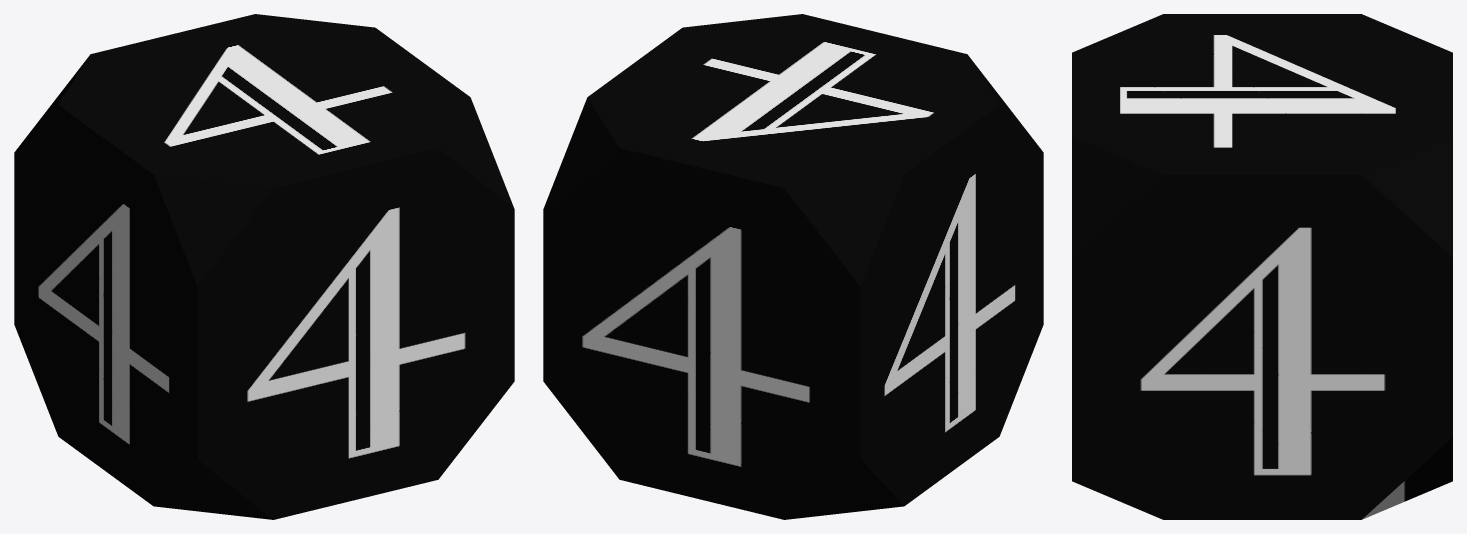
File: BlockBase-4.fbx
The picture shows the model from 3 angles, left to right: view 1: azimuth 30°, elevation 25°; view 2: azimuth 150°, elevation 25°; view 3: azimuth 270°, elevation 25°; orthographic projection. The views are drawn at different scales.
Visible parts, largest first — view 1: Cube.003; view 2: Cube.003; view 3: Cube.003.
Boxes of the visible parts, left/top/right/bottom form: Cube.003: left=14, top=14, right=514, bottom=519; Cube.003: left=543, top=14, right=1043, bottom=519; Cube.003: left=1072, top=14, right=1452, bottom=519.
Size of the model in its own units: 50 by 50 by 50.
1 material, 1 textured.
